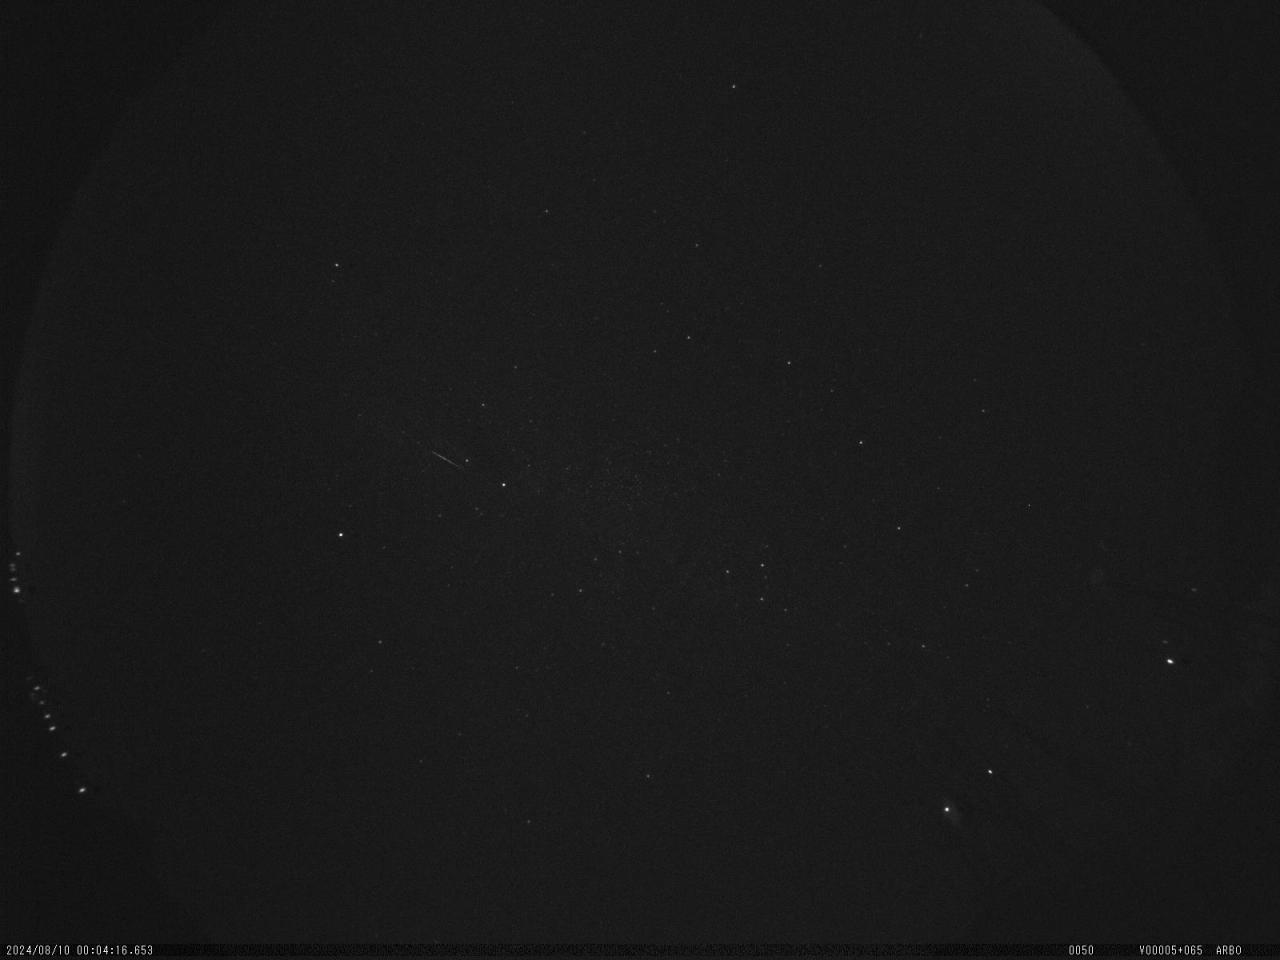Meteor: (420, 444, 466, 473)
